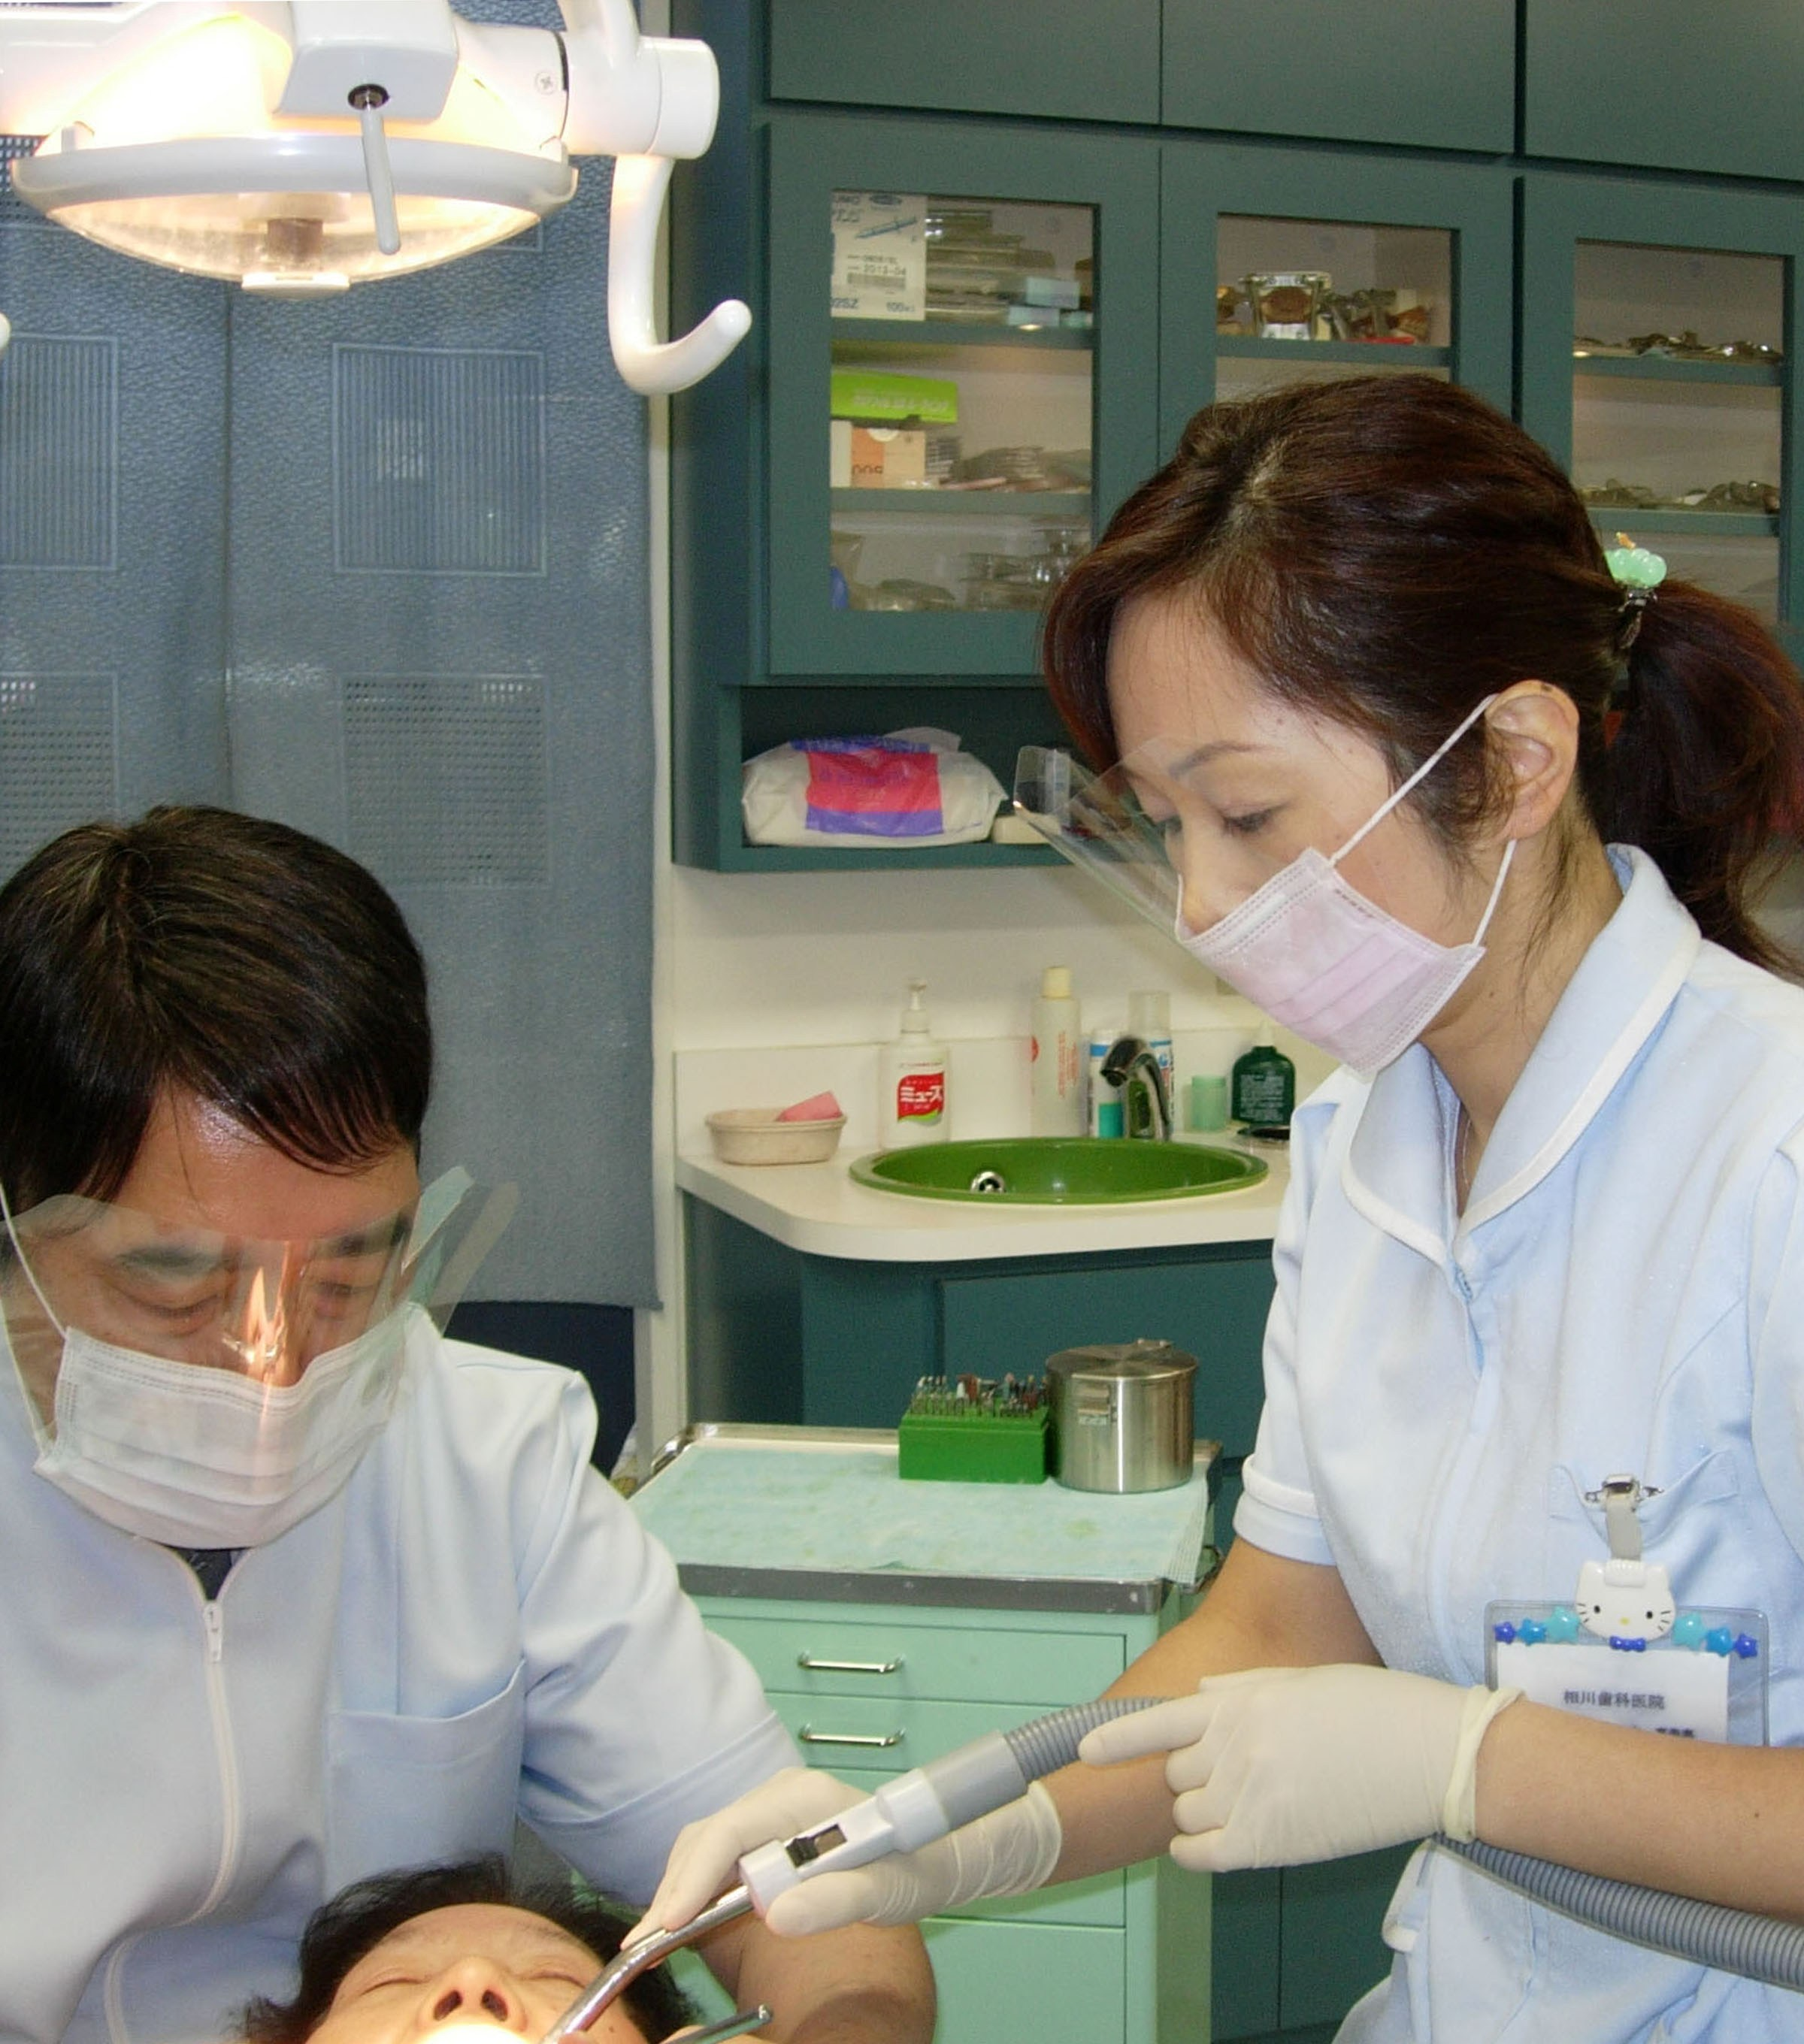mask: (26, 1320, 413, 1553), (1175, 836, 1485, 1076)
